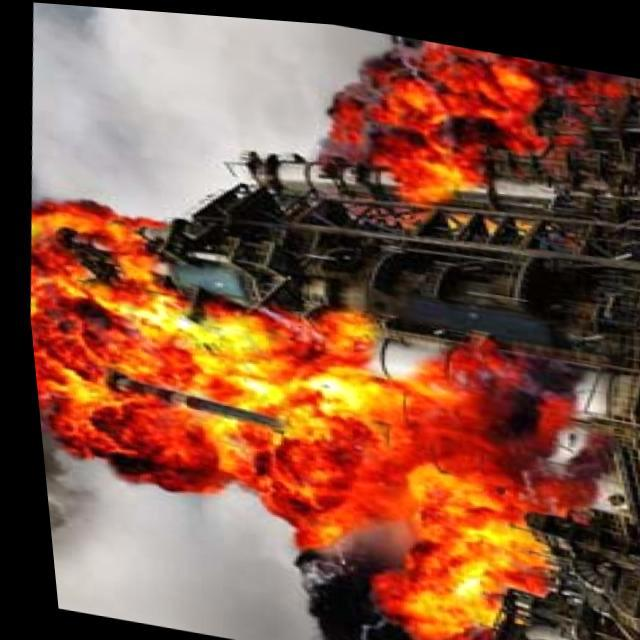fire: (16, 220, 356, 512), (300, 17, 580, 239), (334, 444, 598, 640)
